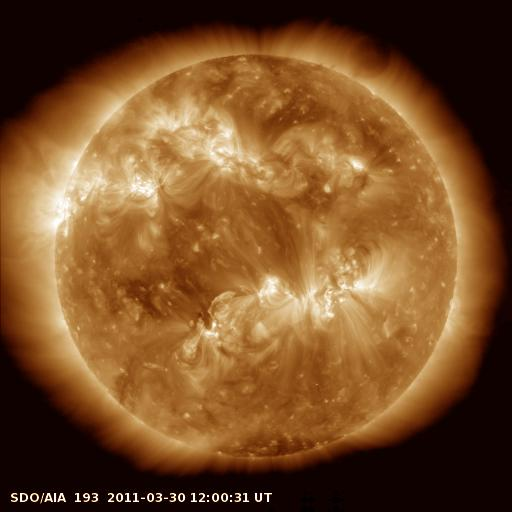coronal_hole: (209, 431, 348, 460), (118, 272, 204, 317)
